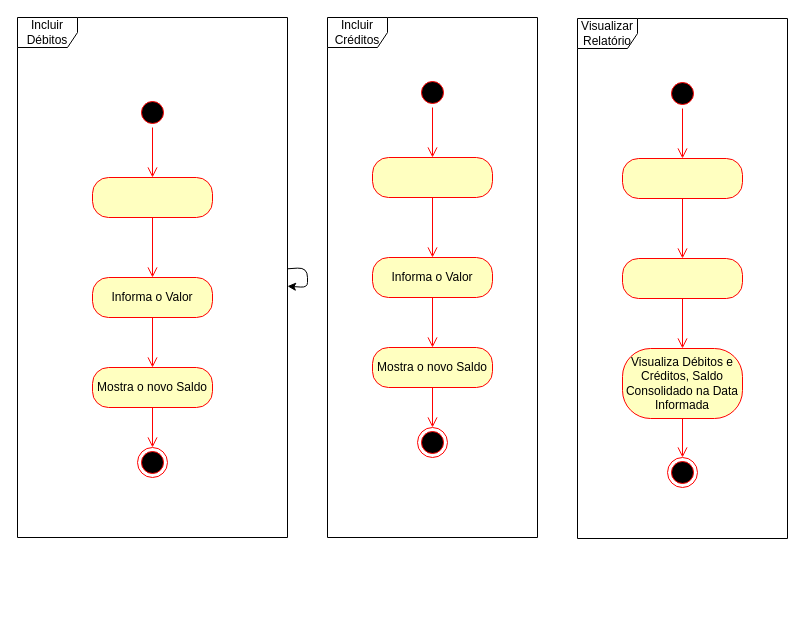
This 805x636 diagram has some shape labels left out. The shapes that lost their labels are listed below. From the top down, each one's centre as x and y in pixels, then its label:
[152,197]: Solicita Incluir Débitos
[432,177]: Solicita Incluir Créditos
[682,178]: Solicita Visualizar Relatório
[682,278]: Informa a Data
